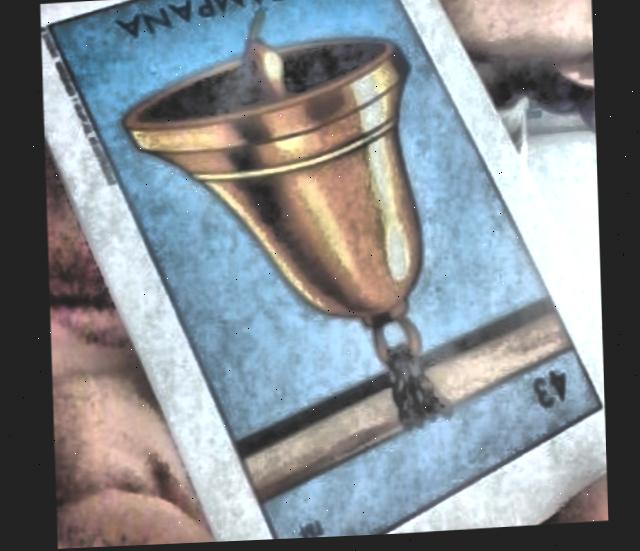La Campana: (48, 0, 599, 542)
